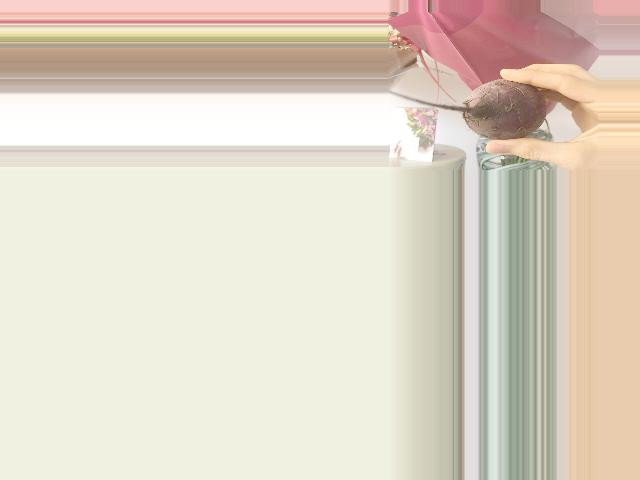beet: (386, 79, 548, 140)
